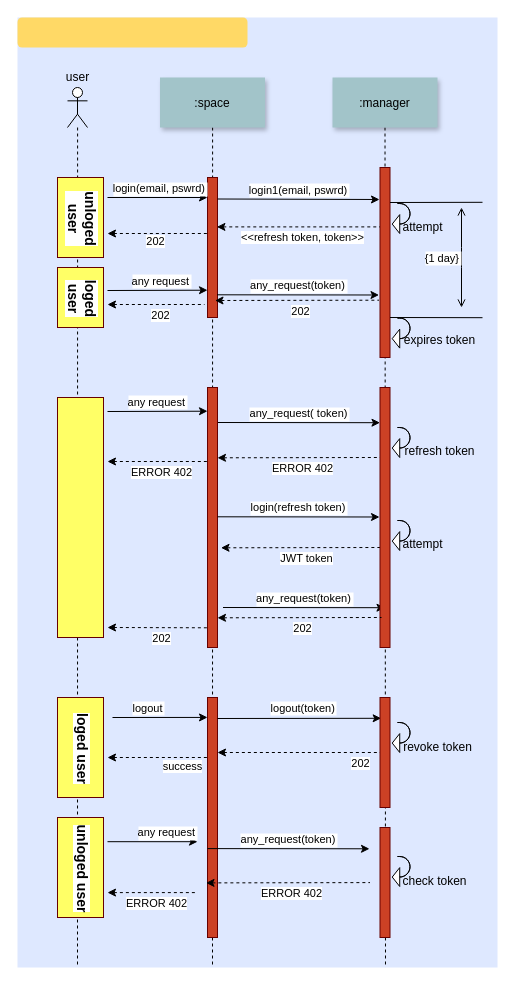
Some shapes in this 514 by 986 pixel diagram are drawn without their labels. Here are the shapes that lost their labels. From the top down, the centre of each, then its label:
pixel 132 32: JWT mechanism with login & logout
pixel 80 517: loged user with expired token
